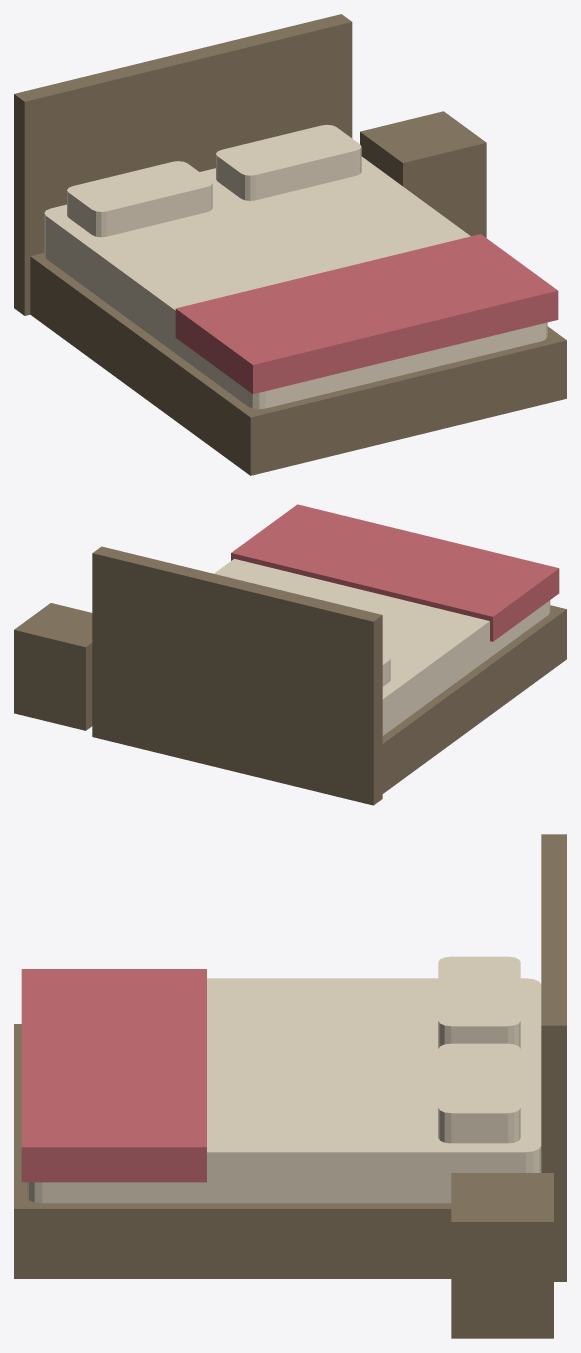
The model's file is city_bed.glb.
The picture shows the model from 3 angles, top to bottom: view 1: azimuth 30°, elevation 25°; view 2: azimuth 150°, elevation 25°; view 3: azimuth 270°, elevation 25°; orthographic projection. The views are drawn at different scales.
Parts seen in each view (by area): view 1: CityBed_Mattress, CityBed_Headboard, CityBed_Frame, CityBed_Throw, CityBed_Nightstand, CityBed_Pillow0.4, CityBed_Pillow-0.4; view 2: CityBed_Headboard, CityBed_Throw, CityBed_Mattress, CityBed_Frame, CityBed_Nightstand; view 3: CityBed_Mattress, CityBed_Throw, CityBed_Frame, CityBed_Nightstand, CityBed_Headboard, CityBed_Pillow0.4, CityBed_Pillow-0.4.
Boxes of the visible parts, <box> form: CityBed_Mattress: <box>44,156,547,409</box>; CityBed_Headboard: <box>14,14,352,315</box>; CityBed_Frame: <box>30,253,566,475</box>; CityBed_Throw: <box>175,234,558,394</box>; CityBed_Nightstand: <box>360,111,486,237</box>; CityBed_Pillow0.4: <box>216,124,361,200</box>; CityBed_Pillow-0.4: <box>67,161,212,237</box>; CityBed_Headboard: <box>92,546,382,805</box>; CityBed_Throw: <box>231,504,559,641</box>; CityBed_Mattress: <box>214,559,550,735</box>; CityBed_Frame: <box>382,605,566,793</box>; CityBed_Nightstand: <box>14,603,92,730</box>; CityBed_Mattress: <box>27,978,541,1203</box>; CityBed_Throw: <box>21,969,206,1182</box>; CityBed_Frame: <box>14,1024,451,1278</box>; CityBed_Nightstand: <box>451,1173,553,1338</box>; CityBed_Headboard: <box>541,834,566,1281</box>; CityBed_Pillow0.4: <box>438,1043,520,1143</box>; CityBed_Pillow-0.4: <box>438,956,520,1048</box>.
Bounding box in the file's own units: 2.28 × 1.1 × 2.15.
